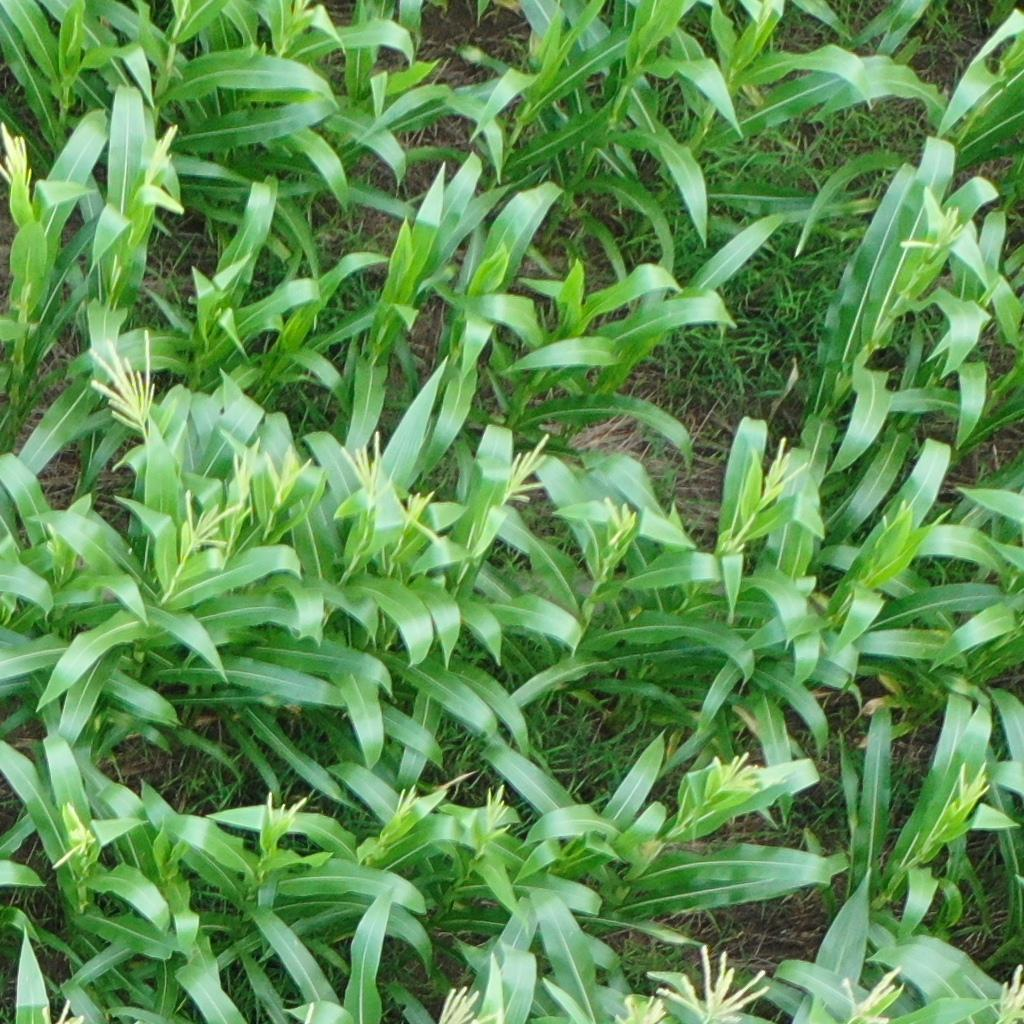Tassel: (84, 324, 165, 430), (655, 940, 775, 999), (333, 426, 391, 503), (758, 433, 813, 506), (184, 489, 243, 555), (899, 198, 965, 257), (503, 426, 552, 503), (710, 748, 783, 795), (263, 440, 319, 494), (49, 804, 95, 869), (138, 121, 182, 185), (838, 959, 906, 998), (1, 120, 40, 186), (404, 489, 447, 546), (480, 780, 515, 841), (953, 759, 992, 810), (603, 495, 632, 547), (876, 491, 913, 529), (266, 793, 308, 826), (232, 446, 260, 495), (396, 783, 423, 821), (286, 1, 317, 26), (1000, 959, 1024, 991)
